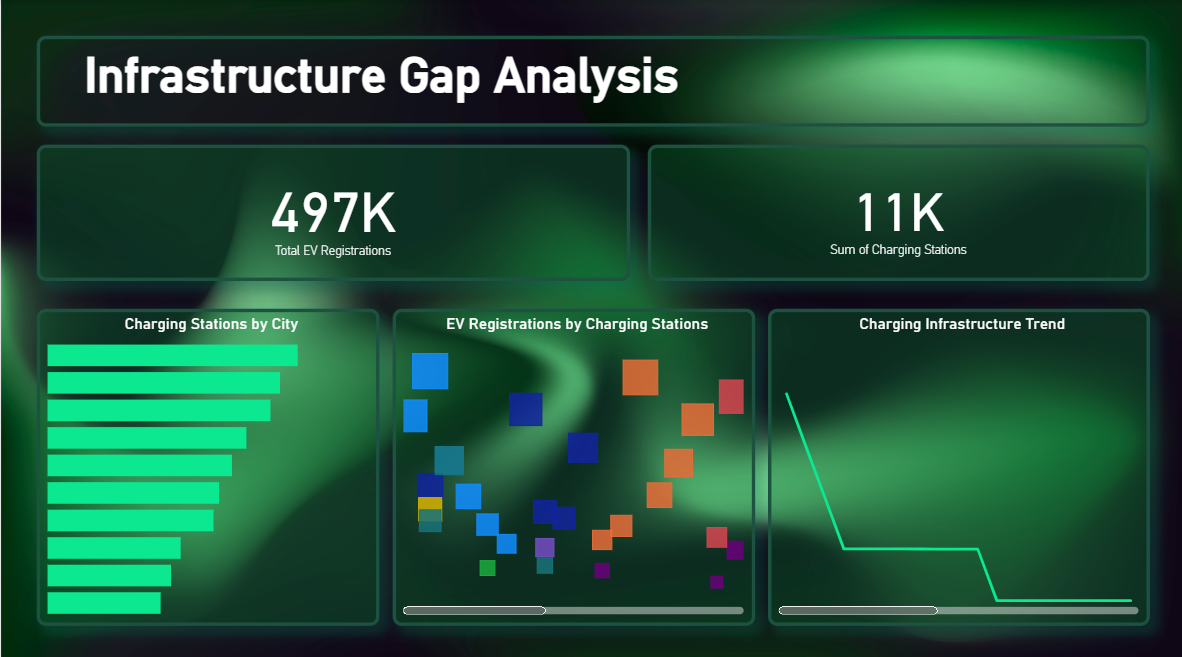

This screenshot's page, from the dashboard's own definition file:
{"tool":"powerbi","page":{"name":"Infrastructure gap Analysis","canvas":[1280,720],"ordinal":2},"visuals":[{"type":"textbox","box":[38.7,38.7,1205.2,98.5],"z":0},{"type":"scatterChart","title":" EV Registrations by Charging Stations ","fields":{"X":["Electric Vehicles.Charging Stations Per EV"],"Y":["Sum(Electric Vehicles.EV Registrations)"],"Series":["Electric Vehicles.State"],"Size":["Sum(Electric Vehicles.EV Registrations)"]},"box":[424,334.3,392.4,343.1],"z":1000},{"type":"clusteredBarChart","title":"Charging Stations by City","fields":{"Category":["Electric Vehicles.City"],"Y":["Sum(Electric Vehicles.Charging Stations)"]},"box":[38.7,334.3,371.2,343.1],"z":2000},{"type":"card","fields":{"Values":["Electric Vehicles.Total EV Registrations"]},"box":[38.7,156.6,642.2,147.8],"z":3000},{"type":"card","fields":{"Values":["Sum(Electric Vehicles.Charging Stations)"]},"box":[700.3,156.6,543.7,147.8],"z":4000},{"type":"lineChart","title":" Charging Infrastructure Trend","fields":{"Y":["Sum(Electric Vehicles.Year)"],"Category":["Electric Vehicles.Charging Stations Per EV"]},"box":[830.5,334.3,413.5,343.1],"z":5000}]}

Visuals, with their boxes in screenshot pixels (x1, y1, x2, y2), scaled from the page's 1280x720 canvas onto the 1182x657 screenshot:
textbox: box=[36, 35, 1149, 125]
" EV Registrations by Charging Stations " scatterChart: box=[392, 305, 754, 618]
"Charging Stations by City" clusteredBarChart: box=[36, 305, 379, 618]
card - Electric Vehicles.Total EV Registrations: box=[36, 143, 629, 278]
card - Sum(Electric Vehicles.Charging Stations): box=[647, 143, 1149, 278]
" Charging Infrastructure Trend" lineChart: box=[767, 305, 1149, 618]
